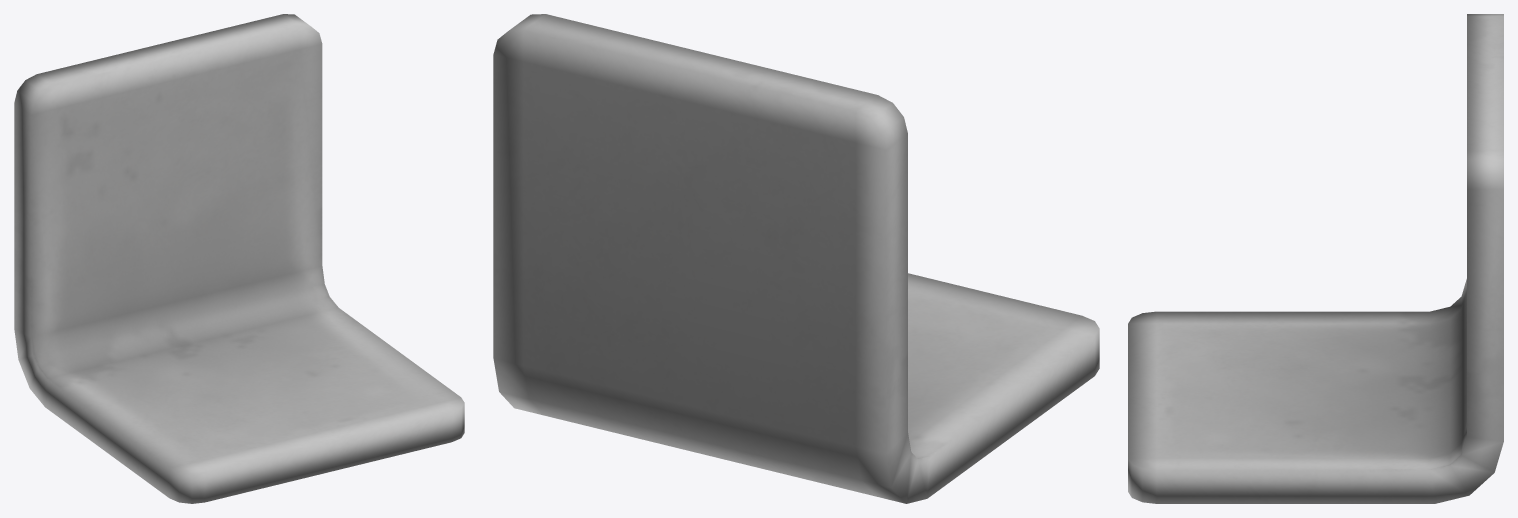
Rendered from SM_Tribines_Seats_B.fbx.
3 views of the same model, side by side, from view 1: azimuth 30°, elevation 25°; view 2: azimuth 150°, elevation 25°; view 3: azimuth 270°, elevation 25° (orthographic). The views are drawn at different scales.
Parts seen in each view (by area): view 1: SM_Tribines_Seats_B; view 2: SM_Tribines_Seats_B; view 3: SM_Tribines_Seats_B.
Boxes of the visible parts, x1,y1,x2,y2 form: SM_Tribines_Seats_B: (14,14,464,503); SM_Tribines_Seats_B: (493,14,1099,503); SM_Tribines_Seats_B: (1128,14,1503,503).
Size of the model in its own units: 50.27 by 50.27 by 50.27.
1 material, 1 textured.
